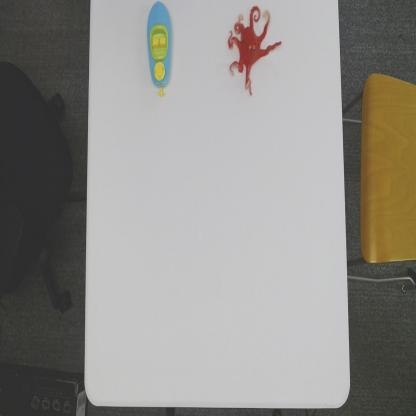Boat: (145, 0, 173, 99)
Octopus: (227, 3, 282, 98)
